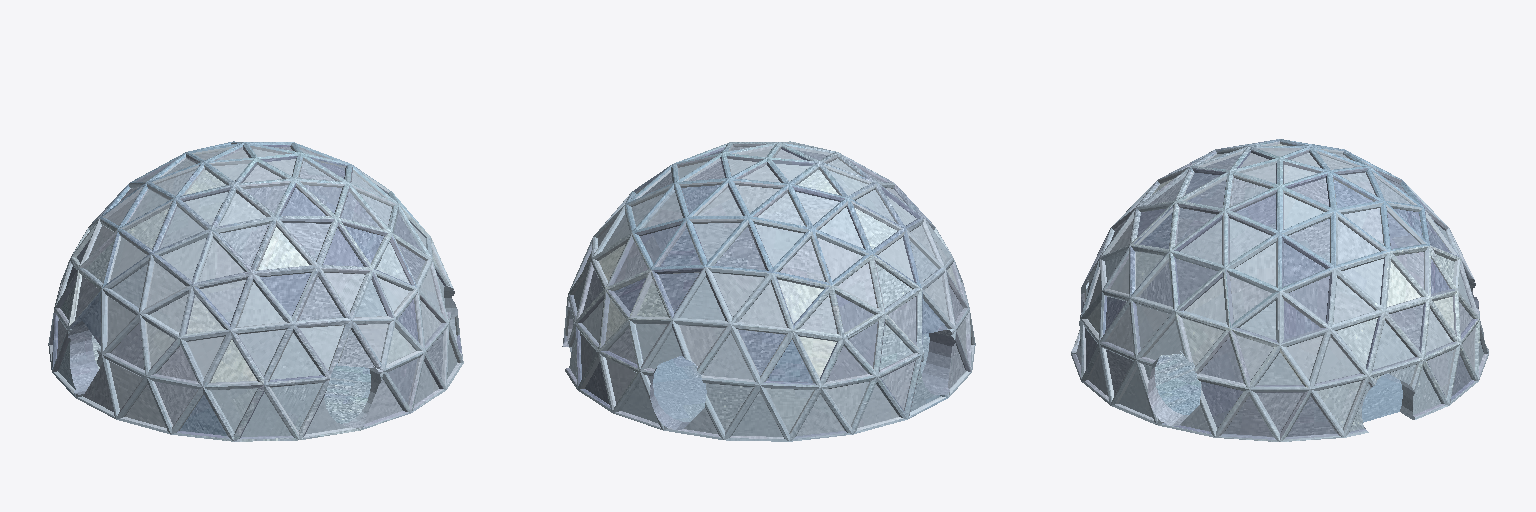
3 renders of one model, left to right at view 1: azimuth 30°, elevation 25°; view 2: azimuth 150°, elevation 25°; view 3: azimuth 270°, elevation 25°, orthographic.
Visible parts, largest first — view 1: domo2:polySurface1; view 2: domo2:polySurface1; view 3: domo2:polySurface1.
Part boxes in pixels (x1,y1,x2,y2): domo2:polySurface1: (48, 141, 463, 441); domo2:polySurface1: (562, 141, 975, 441); domo2:polySurface1: (1071, 139, 1488, 441).
Bounding box in the file's own units: 66.84 × 34.8 × 66.99.
Materials: 2 (1 with a texture image).